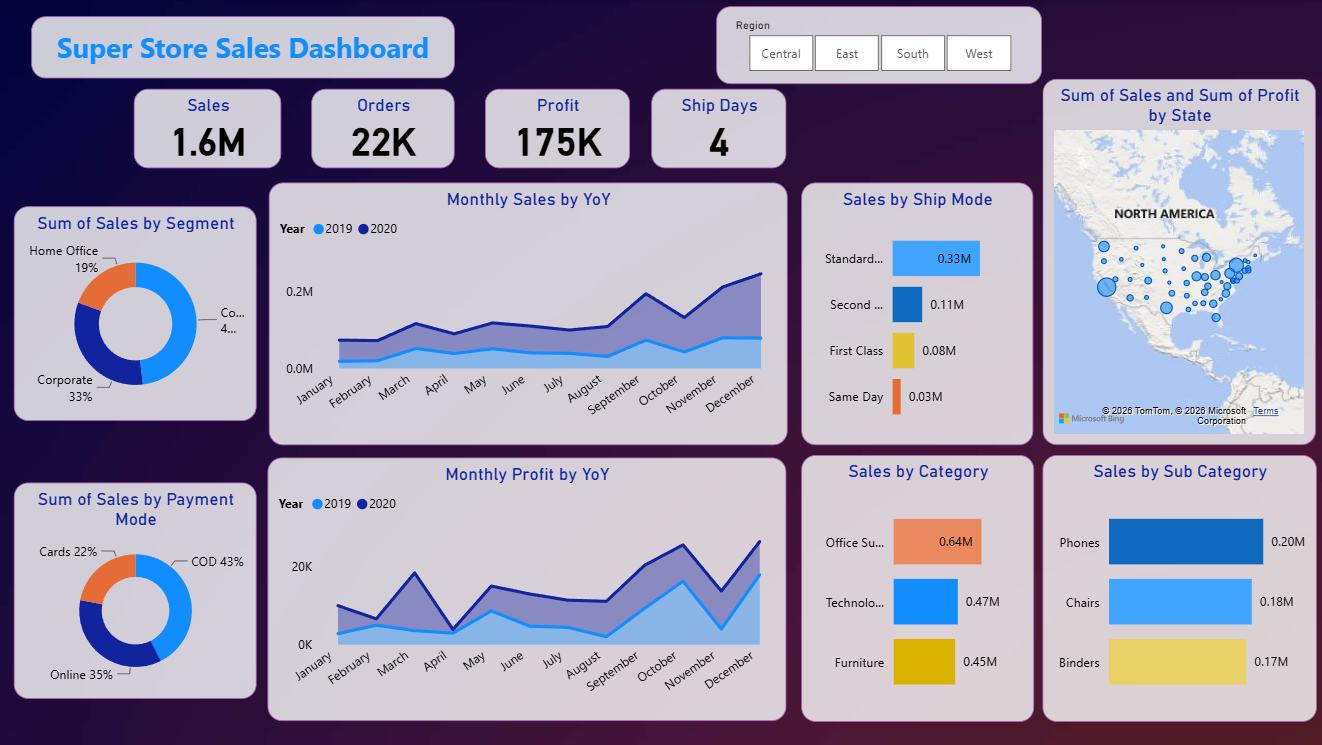

What the dashboard file says about the page in this screenshot:
{"tool":"powerbi","page":{"name":"Page 1","canvas":[1280,720],"ordinal":0},"visuals":[{"type":"clusteredBarChart","title":"Sales by Category","fields":{"Category":["SuperStore_Sales_Dataset.Category"],"Y":["Sum(SuperStore_Sales_Dataset.Sales)"]},"box":[773.9,439.1,225,258],"z":0},{"type":"clusteredBarChart","title":"Sales by Sub Category","fields":{"Category":["SuperStore_Sales_Dataset.Sub-Category"],"Y":["Sum(SuperStore_Sales_Dataset.Sales)"]},"box":[1005.8,439.1,264.8,258],"z":1000},{"type":"clusteredBarChart","title":"Sales by Ship Mode","fields":{"Category":["SuperStore_Sales_Dataset.Ship Mode"],"Y":["Sum(SuperStore_Sales_Dataset.Sales)"]},"box":[773.9,175.6,223.7,253.9],"z":2000},{"type":"stackedAreaChart","title":"Monthly Sales by YoY","fields":{"Y":["Sum(SuperStore_Sales_Dataset.Sales)"],"Category":["SuperStore_Sales_Dataset.Order Date.Variation.Date Hierarchy.Month","SuperStore_Sales_Dataset.Order Date.Variation.Date Hierarchy.Day"],"Series":["SuperStore_Sales_Dataset.Order Date.Variation.Date Hierarchy.Year"]},"box":[259.4,176.1,500.7,253.4],"z":3000},{"type":"stackedAreaChart","title":"Monthly Profit by YoY","fields":{"Category":["SuperStore_Sales_Dataset.Order Date.Variation.Date Hierarchy.Month","SuperStore_Sales_Dataset.Order Date.Variation.Date Hierarchy.Day"],"Series":["SuperStore_Sales_Dataset.Order Date.Variation.Date Hierarchy.Year"],"Y":["Sum(SuperStore_Sales_Dataset.Profit)"]},"box":[258.2,441.6,500.7,254.6],"z":4000},{"type":"map","fields":{"Category":["SuperStore_Sales_Dataset.State"],"Size":["Sum(SuperStore_Sales_Dataset.Sales)"]},"box":[1006.2,76,264.2,353.5],"z":5000},{"type":"donutChart","fields":{"Category":["SuperStore_Sales_Dataset.Segment"],"Y":["Sum(SuperStore_Sales_Dataset.Sales)"]},"box":[13.7,199,234.6,207.2],"z":6000},{"type":"donutChart","fields":{"Category":["SuperStore_Sales_Dataset.Payment Mode"],"Y":["Sum(SuperStore_Sales_Dataset.Sales)"]},"box":[13.7,465.2,234.6,208.6],"z":7000},{"type":"slicer","fields":{"Values":["SuperStore_Sales_Dataset.Region"]},"box":[691.6,5.5,314.2,75.5],"z":8000},{"type":"textbox","box":[30.2,15.1,408.9,60.4],"z":9000},{"type":"card","title":"Sales","fields":{"Values":["Sum(SuperStore_Sales_Dataset.Sales)"]},"box":[129,85.1,142.7,76.8],"z":10000},{"type":"card","title":"Orders","fields":{"Values":["Sum(SuperStore_Sales_Dataset.Quantity)"]},"box":[300.5,85.1,138.6,76.8],"z":11000},{"type":"card","title":"Profit","fields":{"Values":["Sum(SuperStore_Sales_Dataset.Profit)"]},"box":[467.9,85.1,140,76.8],"z":12000},{"type":"card","title":"Ship Days","fields":{"Values":["Avg(SuperStore_Sales_Dataset.Avg Delivery)"]},"box":[628.5,85.1,130.4,76.8],"z":13000}]}

Visuals, with their boxes in screenshot pixels (x1, y1, x2, y2), scaled from the page's 1280x720 canvas onto the 1322x745 screenshot:
"Sales by Category" clusteredBarChart: crop(799, 454, 1032, 721)
"Sales by Sub Category" clusteredBarChart: crop(1039, 454, 1312, 721)
"Sales by Ship Mode" clusteredBarChart: crop(799, 182, 1030, 444)
"Monthly Sales by YoY" stackedAreaChart: crop(268, 182, 785, 444)
"Monthly Profit by YoY" stackedAreaChart: crop(267, 457, 784, 720)
map - SuperStore_Sales_Dataset.State x Sum(SuperStore_Sales_Dataset.Sales): crop(1039, 79, 1312, 444)
donutChart - SuperStore_Sales_Dataset.Segment x Sum(SuperStore_Sales_Dataset.Sales): crop(14, 206, 256, 420)
donutChart - SuperStore_Sales_Dataset.Payment Mode x Sum(SuperStore_Sales_Dataset.Sales): crop(14, 481, 256, 697)
slicer - SuperStore_Sales_Dataset.Region: crop(714, 6, 1039, 84)
textbox: crop(31, 16, 454, 78)
"Sales" card: crop(133, 88, 281, 168)
"Orders" card: crop(310, 88, 454, 168)
"Profit" card: crop(483, 88, 628, 168)
"Ship Days" card: crop(649, 88, 784, 168)
